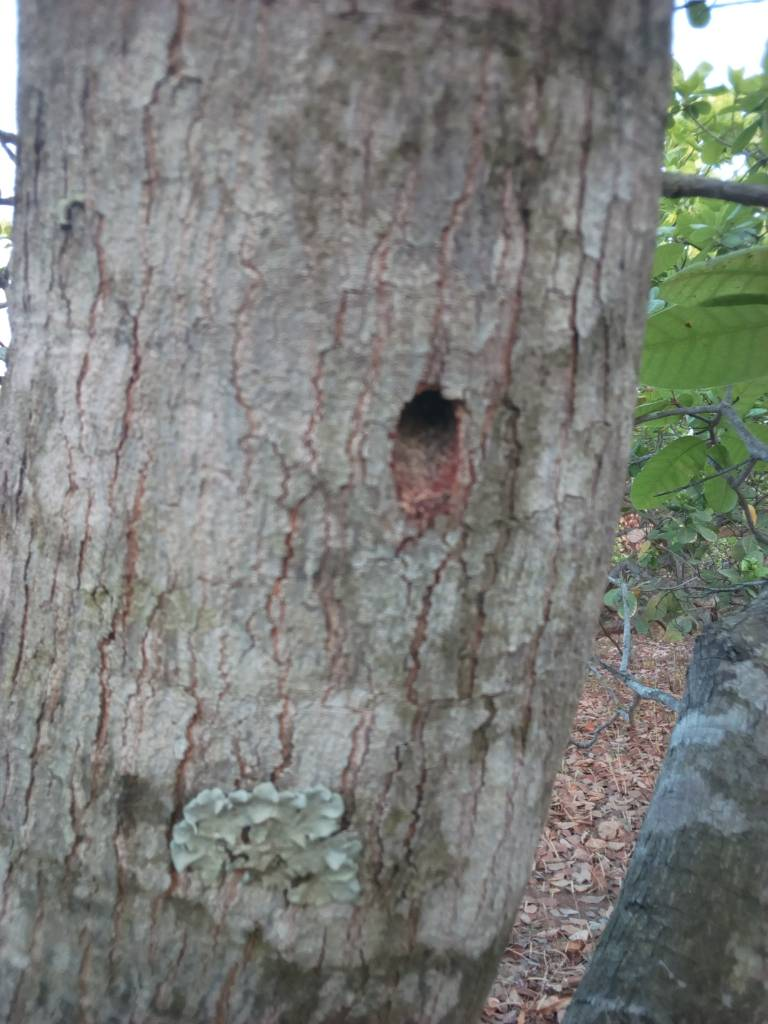Apate terebrans: (325, 357, 697, 749)
